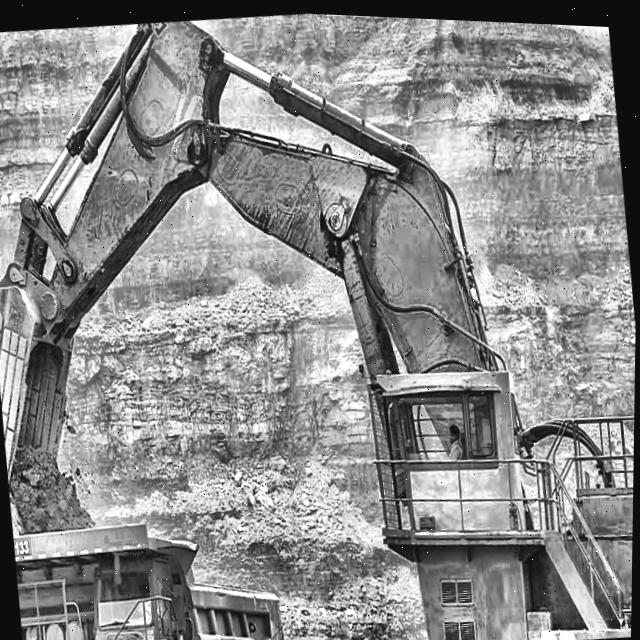dump_truck: (11, 483, 277, 640)
excavator: (0, 0, 640, 582)
